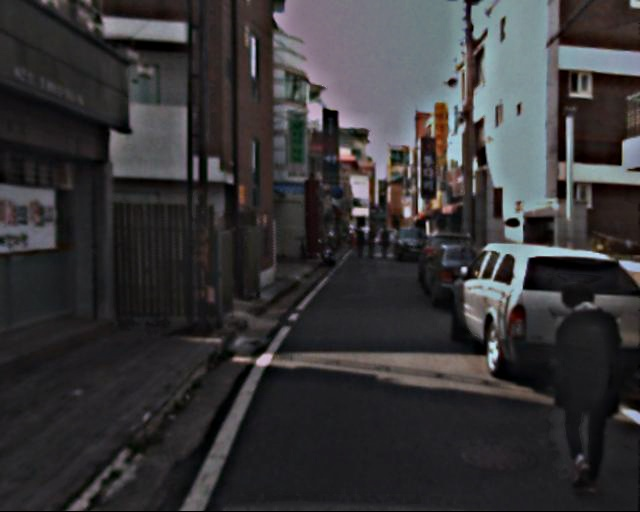person: (529, 279, 627, 493), (356, 227, 392, 265)
